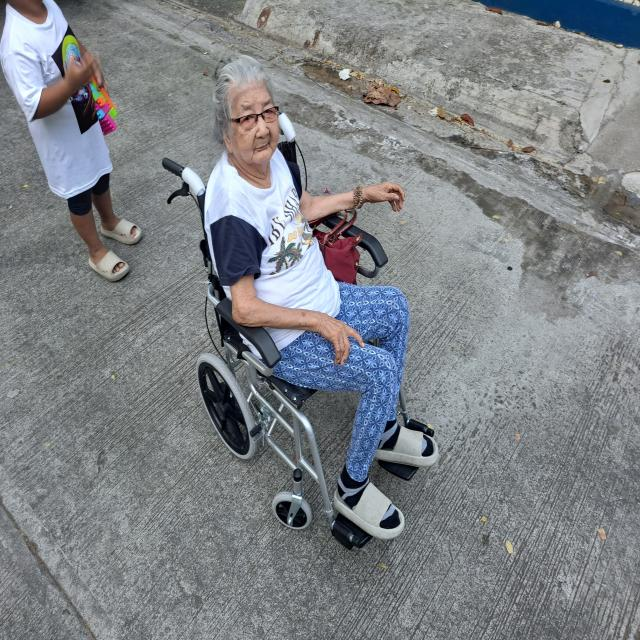wheelchairs: (156, 102, 447, 566)
